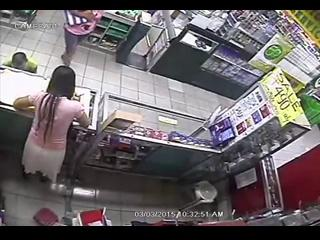Normal: (12, 66, 92, 188), (60, 11, 104, 68)
